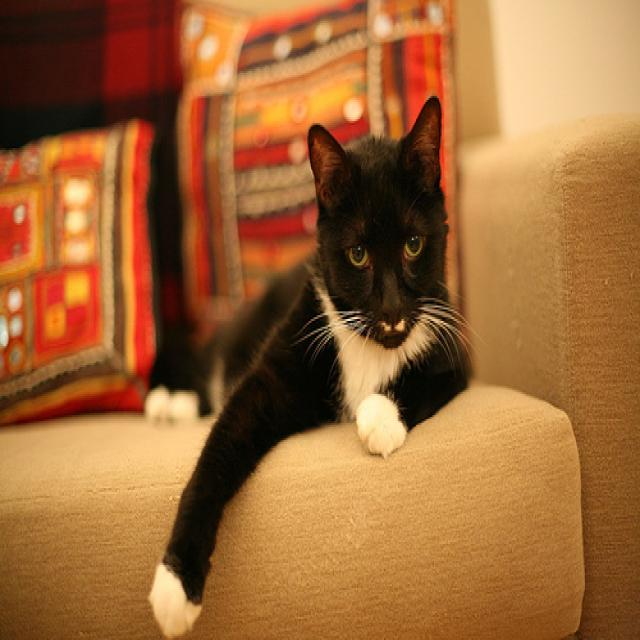cat: (146, 93, 480, 637)
